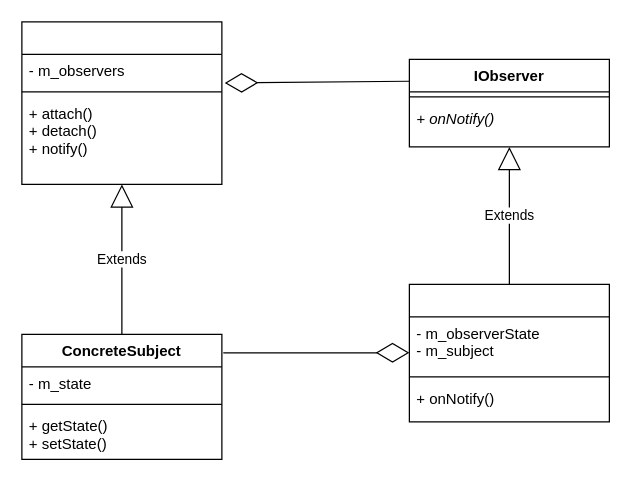
Some shapes in this 631 by 485 pixel diagram are drawn without their labels. The box of each missing label's shape, as (x1, y1, x2, y2) in pixels:
ConcreteObserver: (408, 283, 609, 422)
ISubject: (21, 21, 222, 184)
